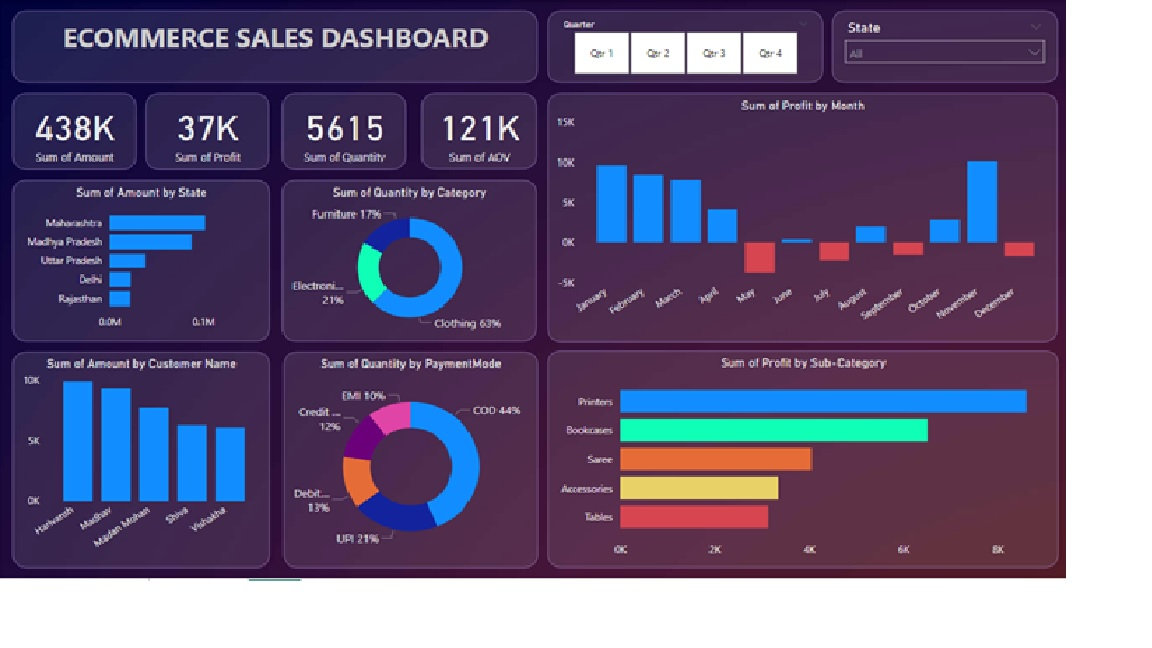

The page's visual inventory and layout, read from the dashboard file:
{"tool":"powerbi","page":{"name":"Page 1","canvas":[1280,720],"ordinal":0},"visuals":[{"type":"textbox","box":[17.2,14.1,623.2,89],"z":0},{"type":"columnChart","title":"Sum of Profit by Month","fields":{"Y":["Details.Profit"],"Category":["Orders.Order Date.Variation.Date Hierarchy.Month"]},"box":[653.3,116.7,605,308.3],"z":1000},{"type":"barChart","title":"Sum of Profit by Sub-Category","fields":{"Y":["Details.Profit"],"Category":["Details.Sub-Category"]},"box":[653.3,436.7,606.7,270],"z":2000},{"type":"donutChart","fields":{"Category":["Details.Category"],"Y":["Details.Quantity"]},"box":[336.7,225,301.7,200],"z":3000},{"type":"donutChart","fields":{"Y":["Details.Quantity"],"Category":["Details.PaymentMode"]},"box":[338.3,438.3,301.7,268.3],"z":4000},{"type":"card","fields":{"Values":["Details.Amount"]},"box":[17.2,117.1,146.8,93.7],"z":5000},{"type":"card","fields":{"Values":["Details.Profit"]},"box":[174.9,117.1,146.8,93.7],"z":6000},{"type":"card","fields":{"Values":["Details.Quantity"]},"box":[337.4,117.1,146.8,93.7],"z":7000},{"type":"card","fields":{"Values":["Details.Average Order Value"]},"box":[503.3,116.7,136.7,93.3],"z":8000},{"type":"barChart","title":"Sum of Amount by State","fields":{"Y":["Details.Amount"],"Category":["Orders.State"]},"box":[16.7,225,305,200],"z":9000},{"type":"columnChart","title":"Sum of Amount by Customer Name","fields":{"Category":["Orders.CustomerName"],"Y":["Details.Amount"]},"box":[16.7,438.3,305,268.3],"z":10000},{"type":"slicer","fields":{"Values":["Orders.Order Date.Variation.Date Hierarchy.Quarter"]},"box":[652.8,14.1,326.4,89],"z":11000},{"type":"slicer","fields":{"Values":["Orders.State"]},"box":[990.2,14.1,268.6,89],"z":12000}]}

Visuals, with their boxes in screenshot pixels (x1, y1, x2, y2), scaled from the page's 1280x720 canvas onto the 1152x648 screenshot:
textbox: region(15, 13, 576, 93)
"Sum of Profit by Month" columnChart: region(588, 105, 1132, 382)
"Sum of Profit by Sub-Category" barChart: region(588, 393, 1134, 636)
donutChart - Details.Category x Details.Quantity: region(303, 202, 575, 382)
donutChart - Details.Quantity x Details.PaymentMode: region(304, 394, 576, 636)
card - Details.Amount: region(15, 105, 148, 190)
card - Details.Profit: region(157, 105, 290, 190)
card - Details.Quantity: region(304, 105, 436, 190)
card - Details.Average Order Value: region(453, 105, 576, 189)
"Sum of Amount by State" barChart: region(15, 202, 290, 382)
"Sum of Amount by Customer Name" columnChart: region(15, 394, 290, 636)
slicer - Orders.Order Date.Variation.Date Hierarchy.Quarter: region(588, 13, 881, 93)
slicer - Orders.State: region(891, 13, 1133, 93)
